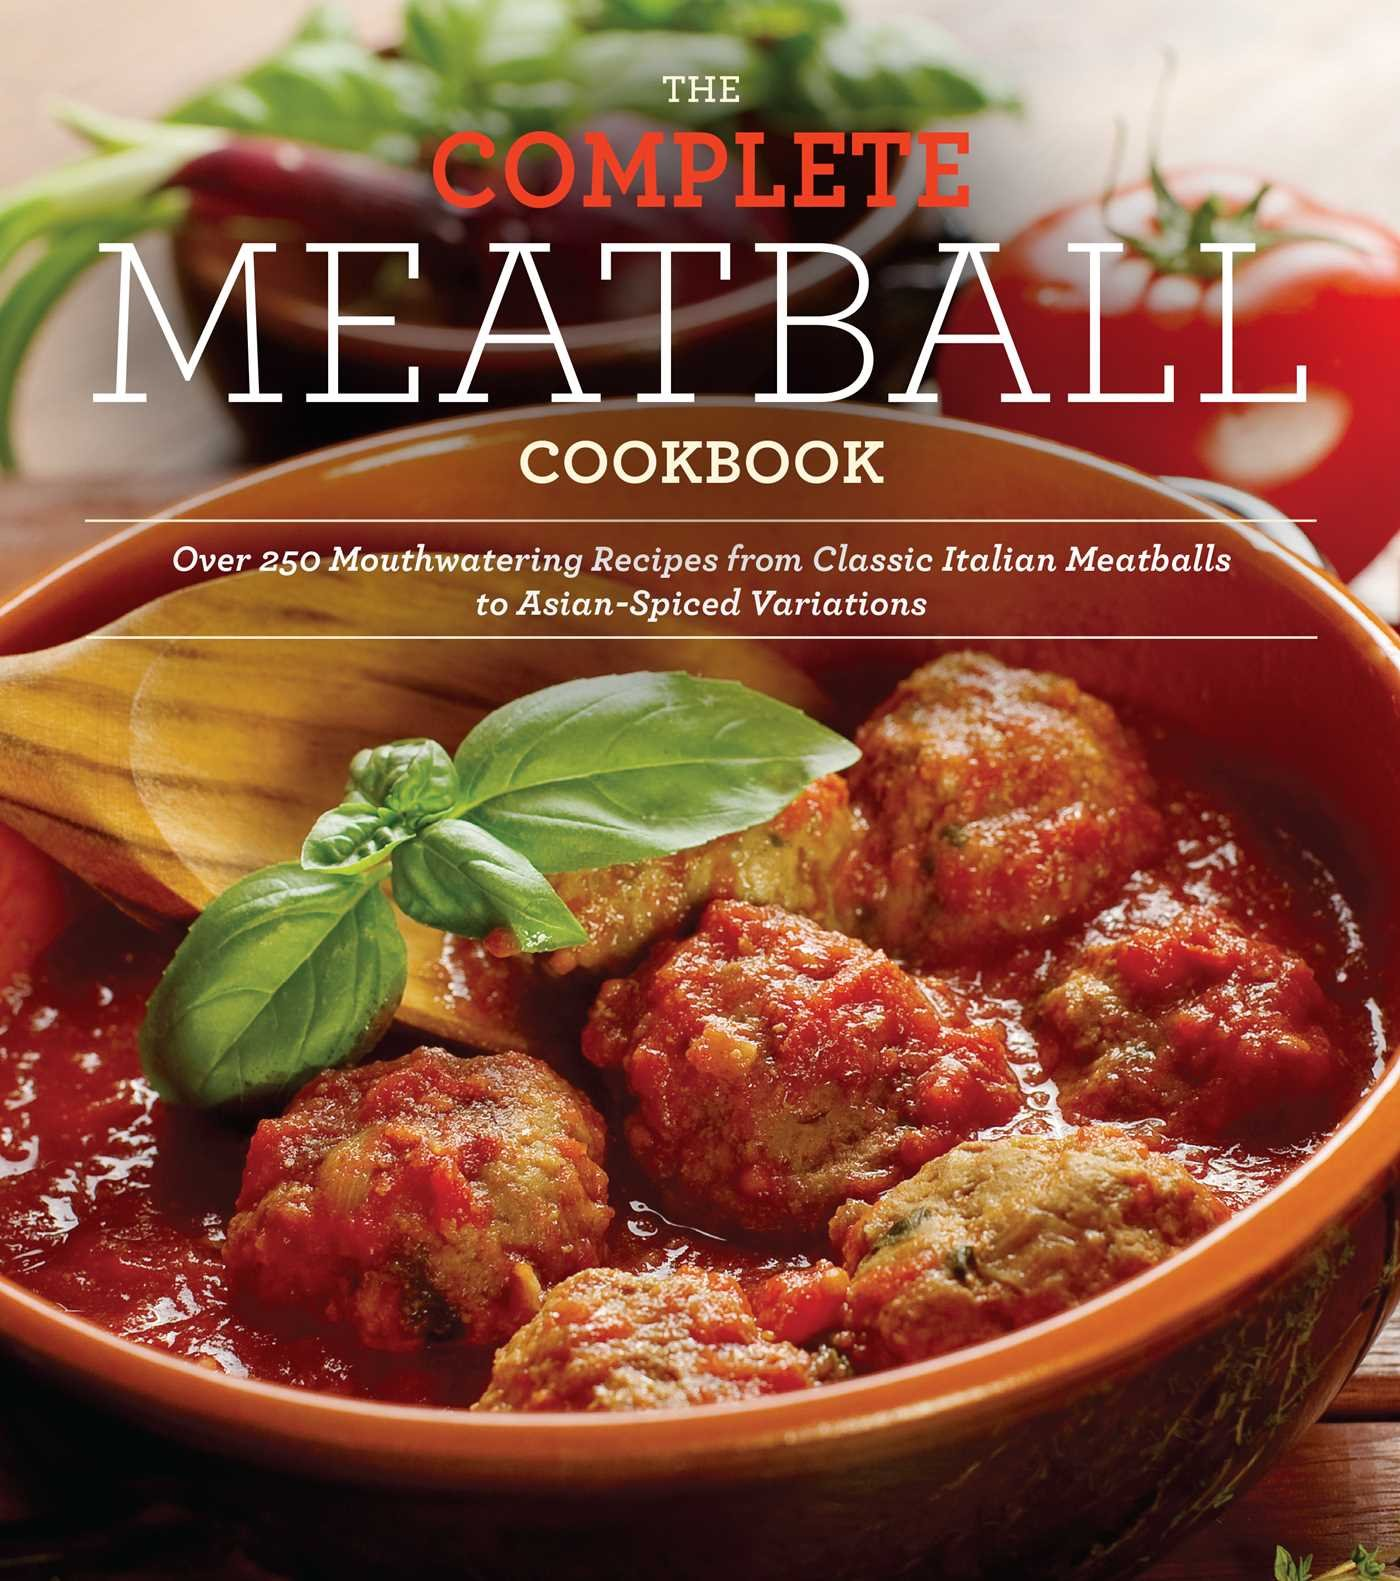meatballs: (245, 1062, 597, 1326), (618, 940, 965, 1165), (865, 663, 1124, 916), (1072, 904, 1308, 1136), (464, 1284, 857, 1419), (870, 1158, 1168, 1323)
